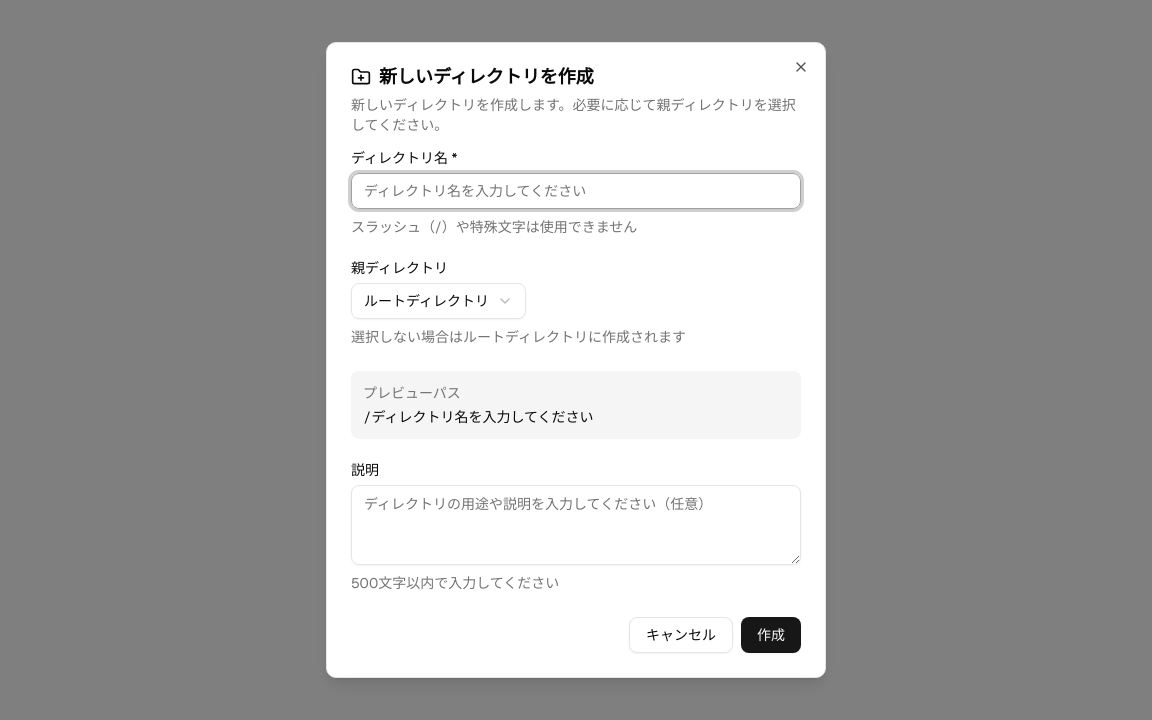
Test: DirectoryDialog › バリデーション › 名前が空の場合はエラーが表示される
The width and height of the screenshot is (1152, 720).
Click the button "作成" at (771,635), box [741, 617, 801, 653]
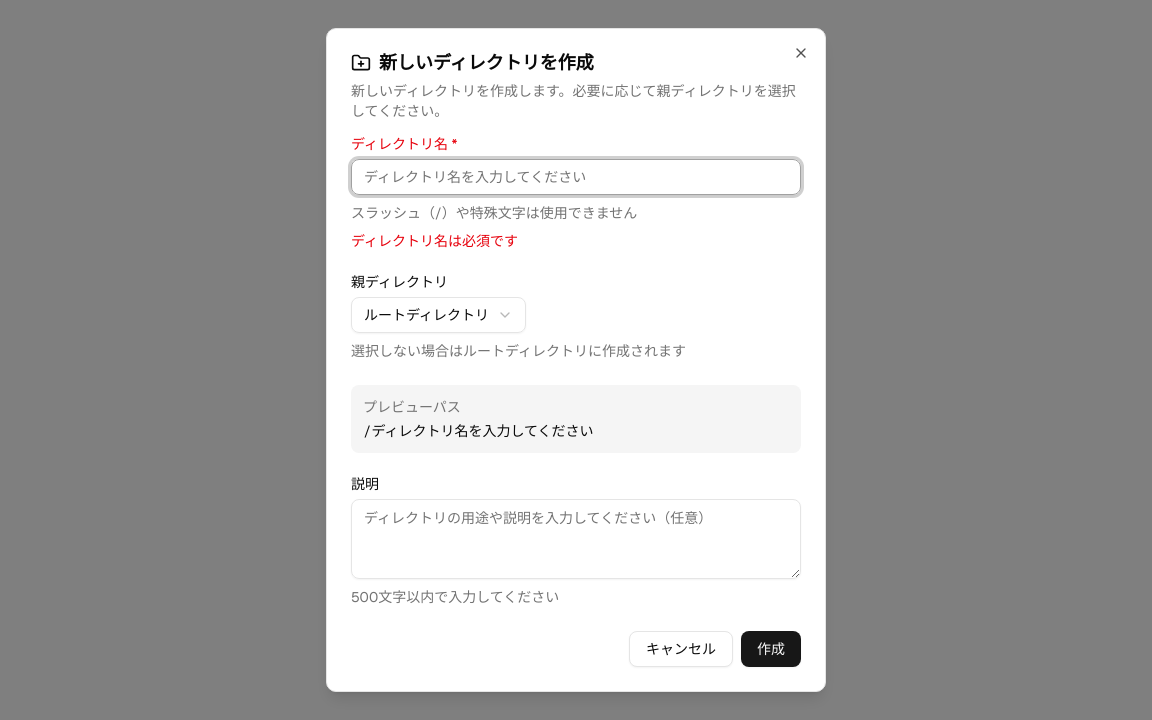
expect the text "ディレクトリ名は必須です" is shown: met, box [351, 232, 518, 250]
